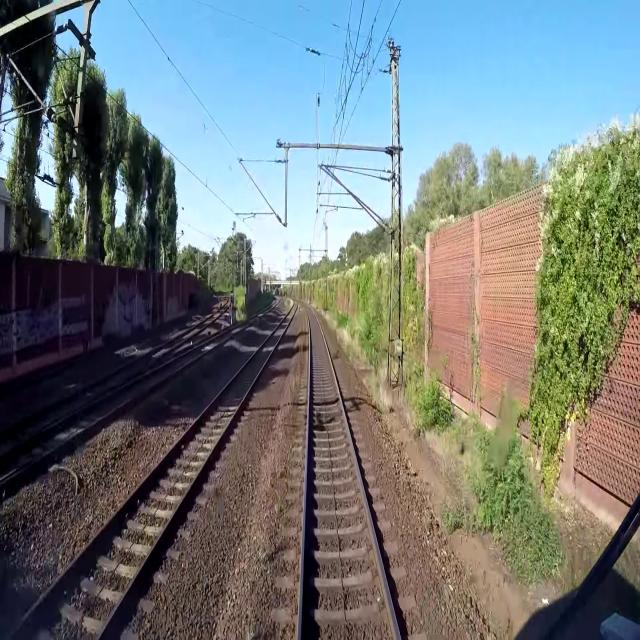rail-track: (12, 303, 296, 639), (0, 315, 259, 476), (302, 305, 396, 639), (0, 303, 227, 441)
